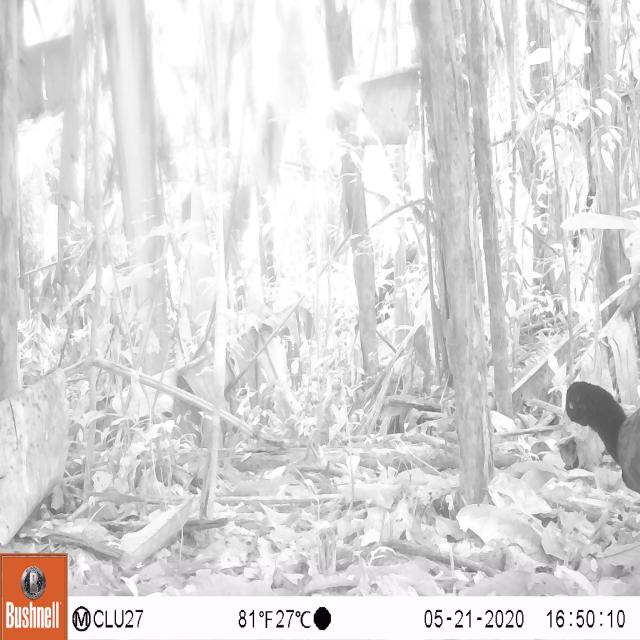Salvins Curassow: (550, 367, 640, 492)
